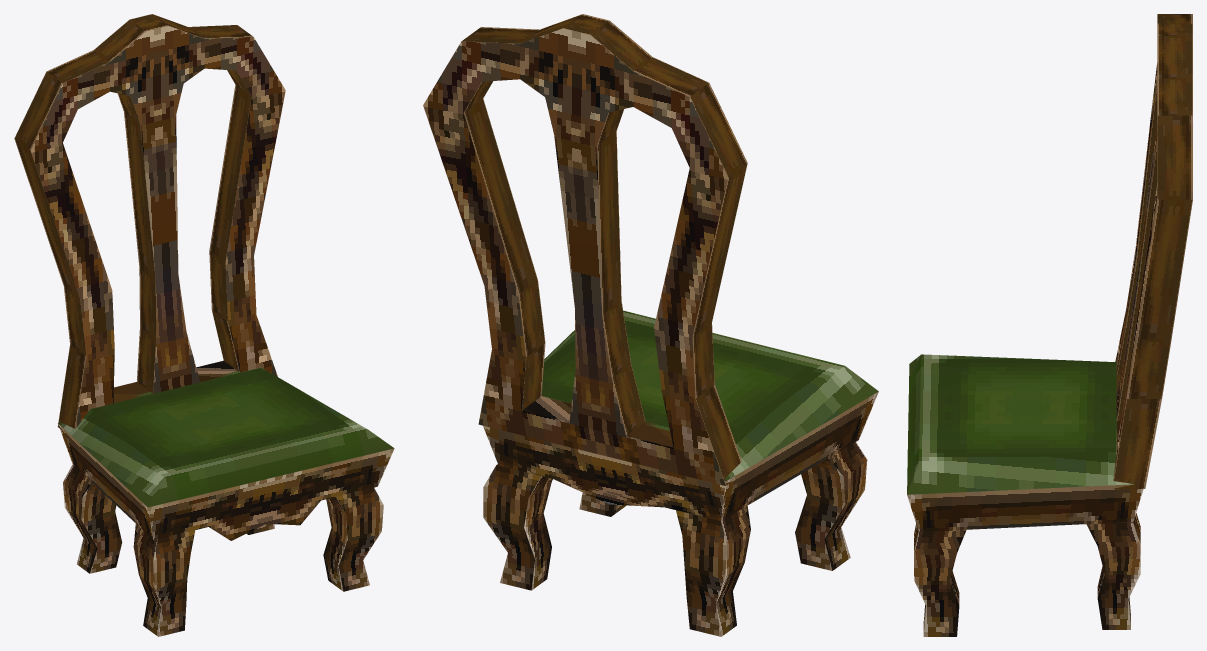
The model's file is isu35_1.glb.
3 views of the same model, side by side, from view 1: azimuth 30°, elevation 25°; view 2: azimuth 150°, elevation 25°; view 3: azimuth 270°, elevation 25° (orthographic). The views are drawn at different scales.
Visible parts, largest first — view 1: isu35_1; view 2: isu35_1; view 3: isu35_1.
Part boxes in pixels (x1,y1,x2,y2): isu35_1: (14,14,394,636); isu35_1: (423,14,878,636); isu35_1: (907,14,1192,636).
Bounding box in the file's own units: 135 × 255 × 120.
5 materials, 5 textured.
